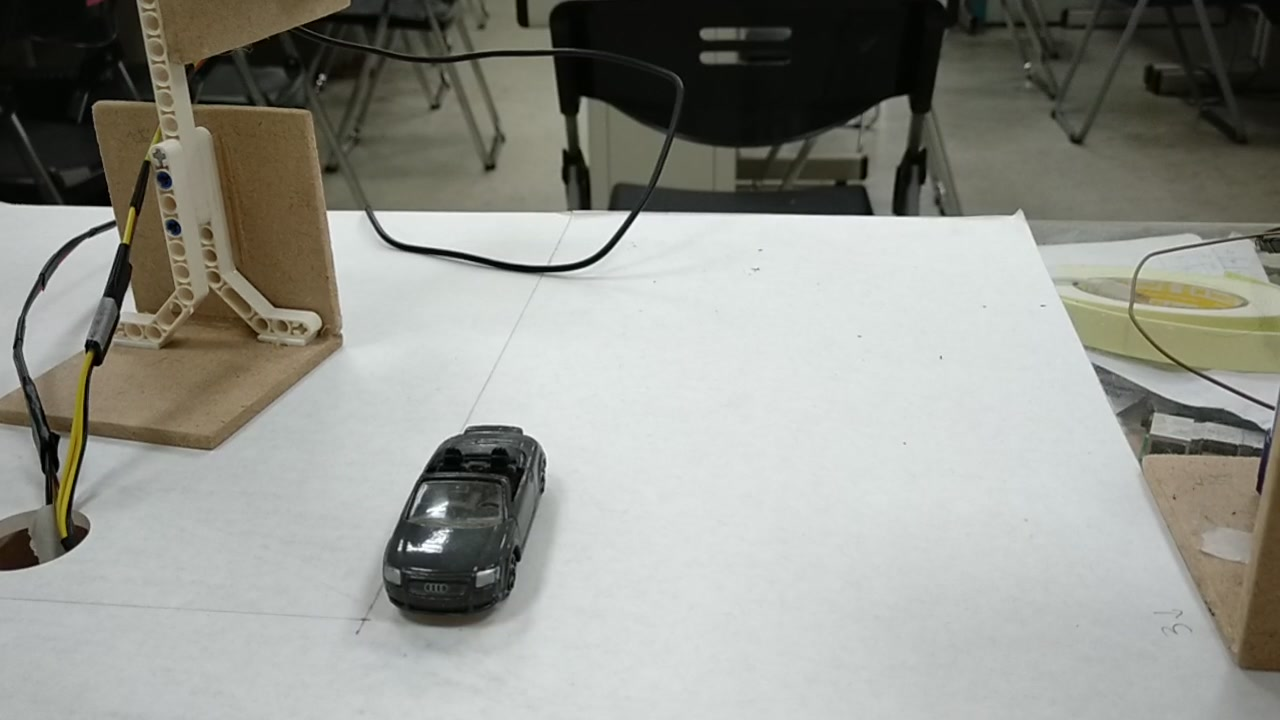car: (379, 441, 556, 616)
